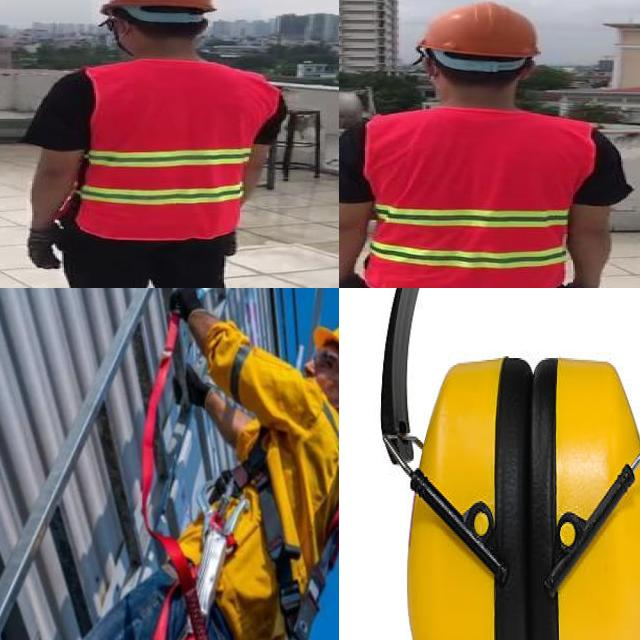Ear-protection: (346, 288, 640, 640)
Harness: (141, 309, 267, 640), (213, 429, 339, 640)
hand_glove: (25, 224, 66, 268)
head_helmet: (418, 0, 546, 62), (98, 0, 217, 13)
person: (339, 0, 637, 288), (8, 0, 286, 288)
vest: (365, 108, 591, 288), (83, 60, 281, 239)
